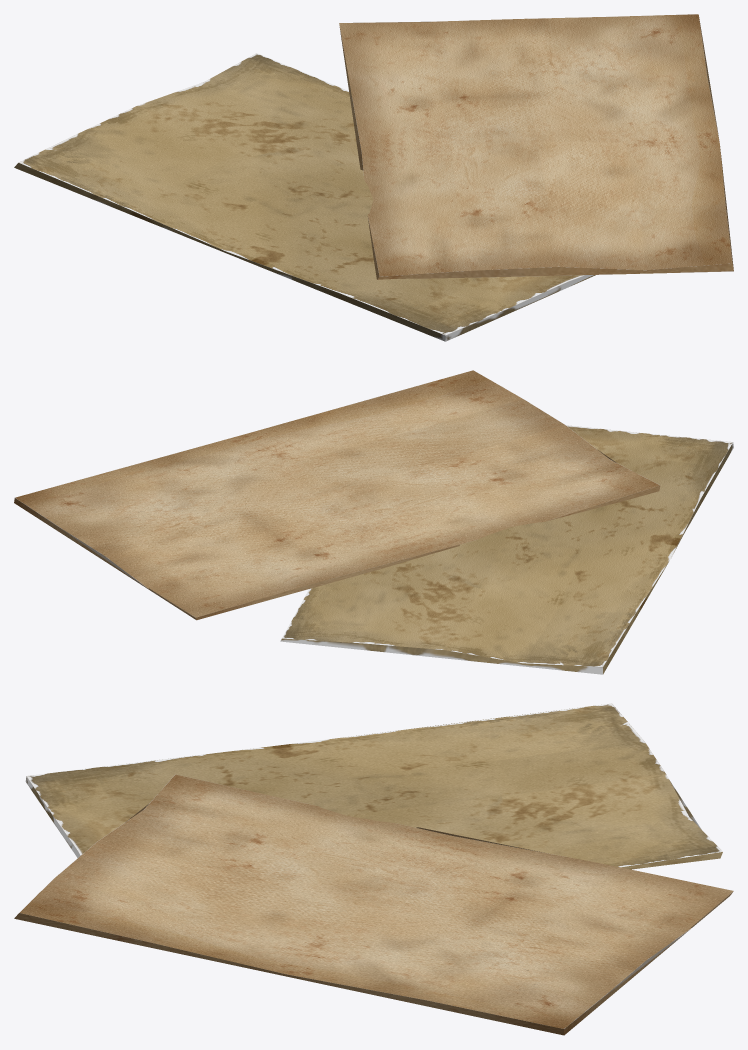
Rendered from Paper.gltf.
3 views of the same model, one above another, from view 1: azimuth 30°, elevation 25°; view 2: azimuth 150°, elevation 25°; view 3: azimuth 270°, elevation 25° (orthographic). The views are drawn at different scales.
Parts seen in each view (by area): view 1: Cube.007_Cube.029; view 2: Cube.007_Cube.029; view 3: Cube.007_Cube.029.
Boxes of the visible parts, bbox=[...] form: Cube.007_Cube.029: bbox=[14, 14, 733, 341]; Cube.007_Cube.029: bbox=[14, 370, 733, 674]; Cube.007_Cube.029: bbox=[14, 703, 733, 1035].
Bounding box in the file's own units: 1.28 × 0.0254 × 1.17.
Materials: 1 (1 with a texture image).
